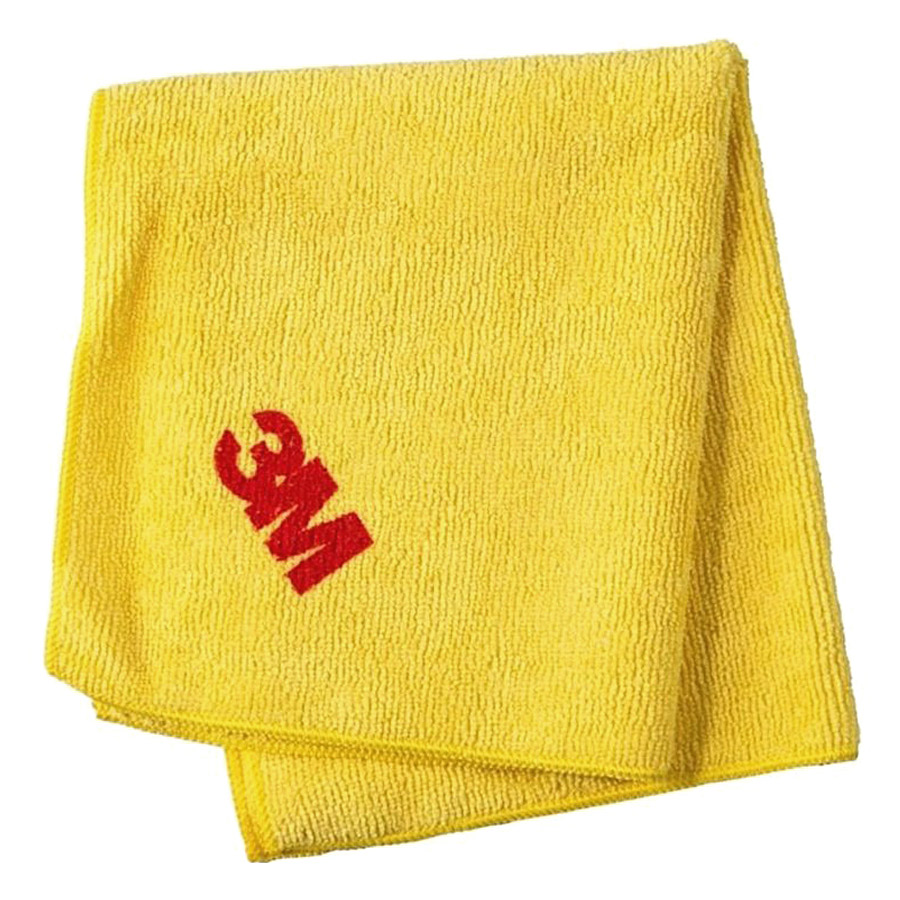3M: (200, 385, 387, 604)
